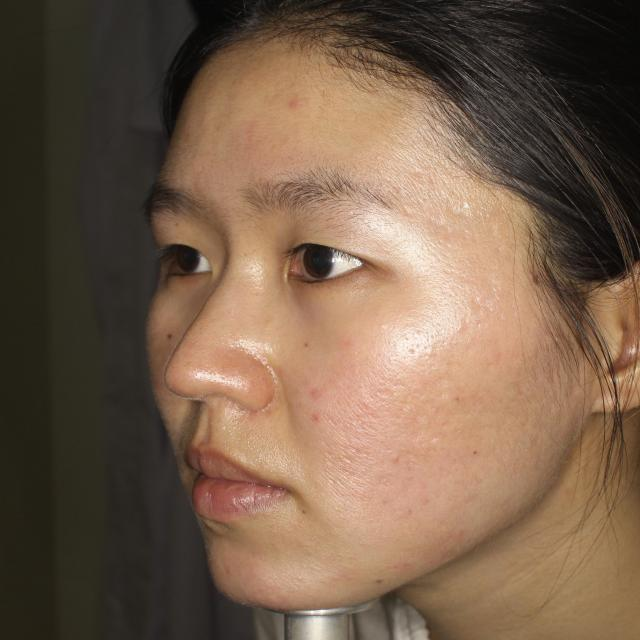comedone: (276, 90, 322, 128), (304, 388, 344, 418)
